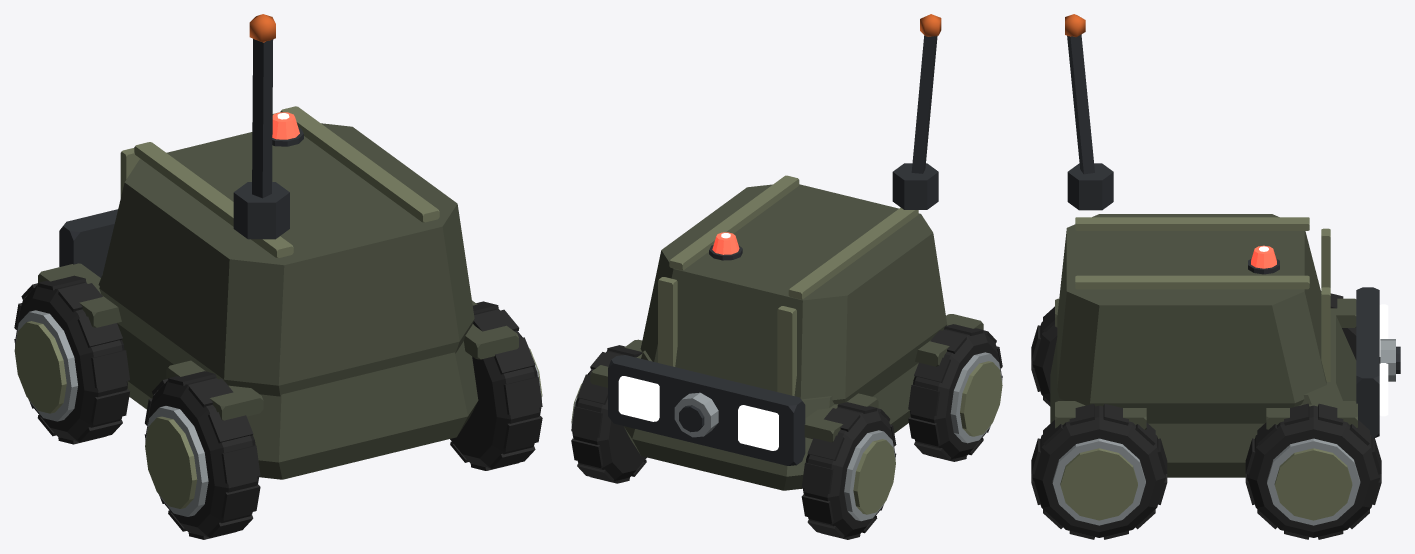
File: drone.glb
3 renders of one model, left to right at view 1: azimuth 30°, elevation 25°; view 2: azimuth 150°, elevation 25°; view 3: azimuth 270°, elevation 25°, orthographic. The views are drawn at different scales.
Visible parts, largest first — view 1: drone_body, drone_wheel_L1, drone_wheel_L2, drone_wheel_R1, drone_beacon; view 2: drone_body, drone_wheel_L2, drone_wheel_L1, drone_wheel_R2; view 3: drone_body, drone_wheel_R1, drone_wheel_R2, drone_wheel_L1, drone_beacon.
Boxes of the visible parts, x1,y1,x2,y2 form: drone_body: [38, 14, 518, 479]; drone_wheel_L1: [144, 371, 260, 539]; drone_wheel_L2: [14, 275, 129, 444]; drone_wheel_R1: [450, 301, 542, 470]; drone_beacon: [272, 112, 299, 139]; drone_body: [590, 14, 983, 490]; drone_wheel_L2: [801, 402, 896, 539]; drone_wheel_L1: [908, 324, 1002, 461]; drone_wheel_R2: [571, 345, 646, 483]; drone_body: [1050, 14, 1400, 477]; drone_wheel_R1: [1031, 404, 1167, 539]; drone_wheel_R2: [1245, 403, 1381, 539]; drone_wheel_L1: [1031, 306, 1057, 406]; drone_beacon: [1251, 245, 1276, 268].
Size of the model in its own units: 0.2009 by 0.283 by 0.2232.
2 materials, 2 textured.
